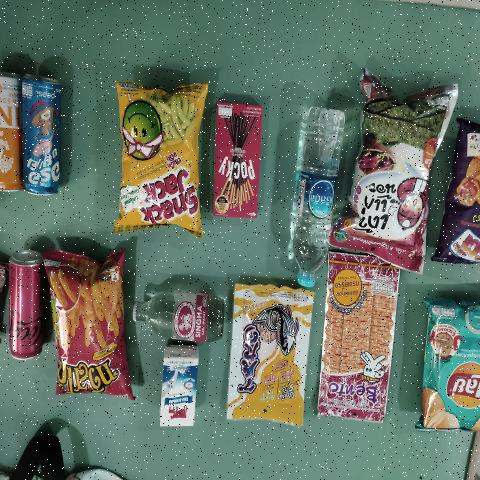bento_red: (327, 255, 388, 422)
coke_red: (10, 258, 44, 357)
crystal: (296, 89, 338, 288)
pepsi_blue: (21, 83, 58, 193)
pokki: (215, 104, 254, 224)
singha_soda: (130, 287, 223, 348)
snack_jack: (122, 96, 194, 222)
taokaenoi: (356, 91, 424, 264)
taro_yellow: (234, 284, 303, 417)
thai_denmark: (161, 346, 196, 426)
twisco: (55, 260, 130, 396)
